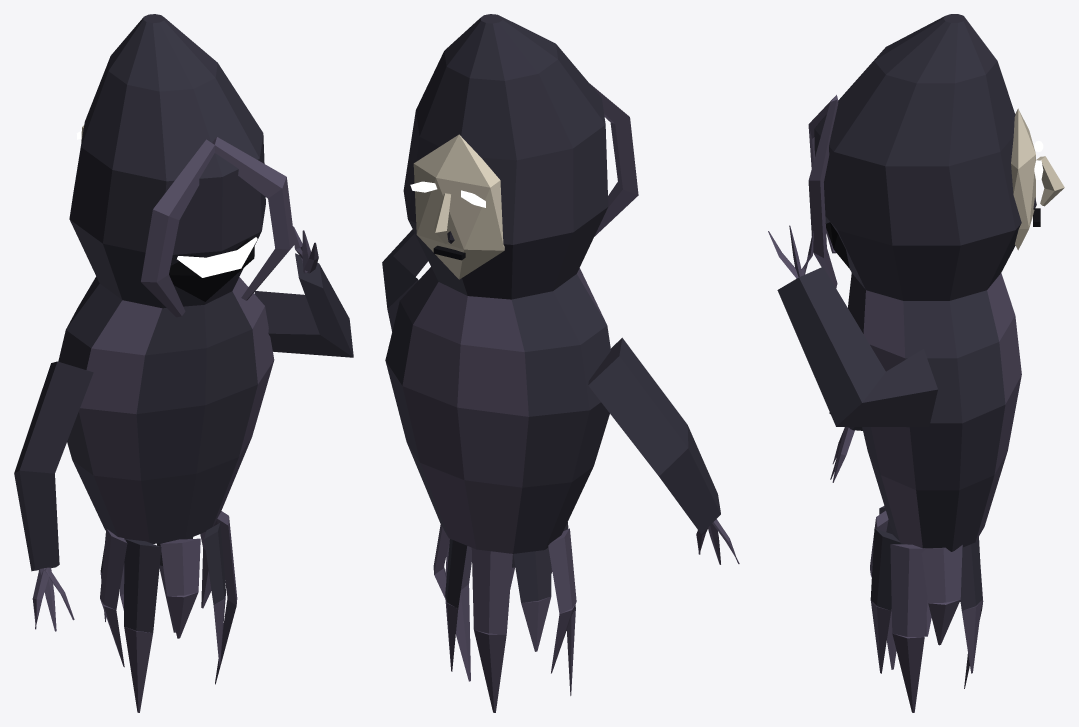
The model's file is daemon-whisper.glb.
The picture shows the model from 3 angles, left to right: view 1: azimuth 30°, elevation 25°; view 2: azimuth 150°, elevation 25°; view 3: azimuth 270°, elevation 25°; orthographic projection. The views are drawn at different scales.
Parts seen in each view (by area): view 1: whisper_body; view 2: whisper_body; view 3: whisper_body.
Boxes of the visible parts, box(x1,y1,x2,y2) form: whisper_body: box(14, 14, 353, 712); whisper_body: box(382, 14, 739, 712); whisper_body: box(768, 14, 1064, 712).
Bounding box in the file's own units: 0.4144 × 0.7951 × 0.3174.
